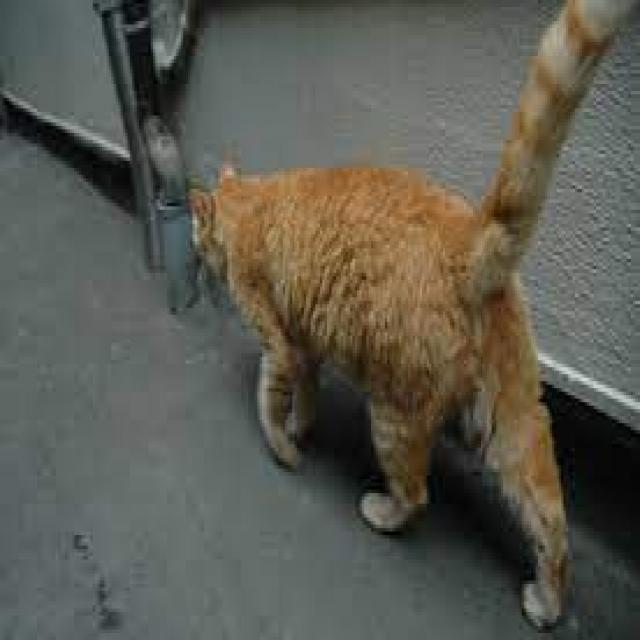cat: (123, 67, 624, 620)
